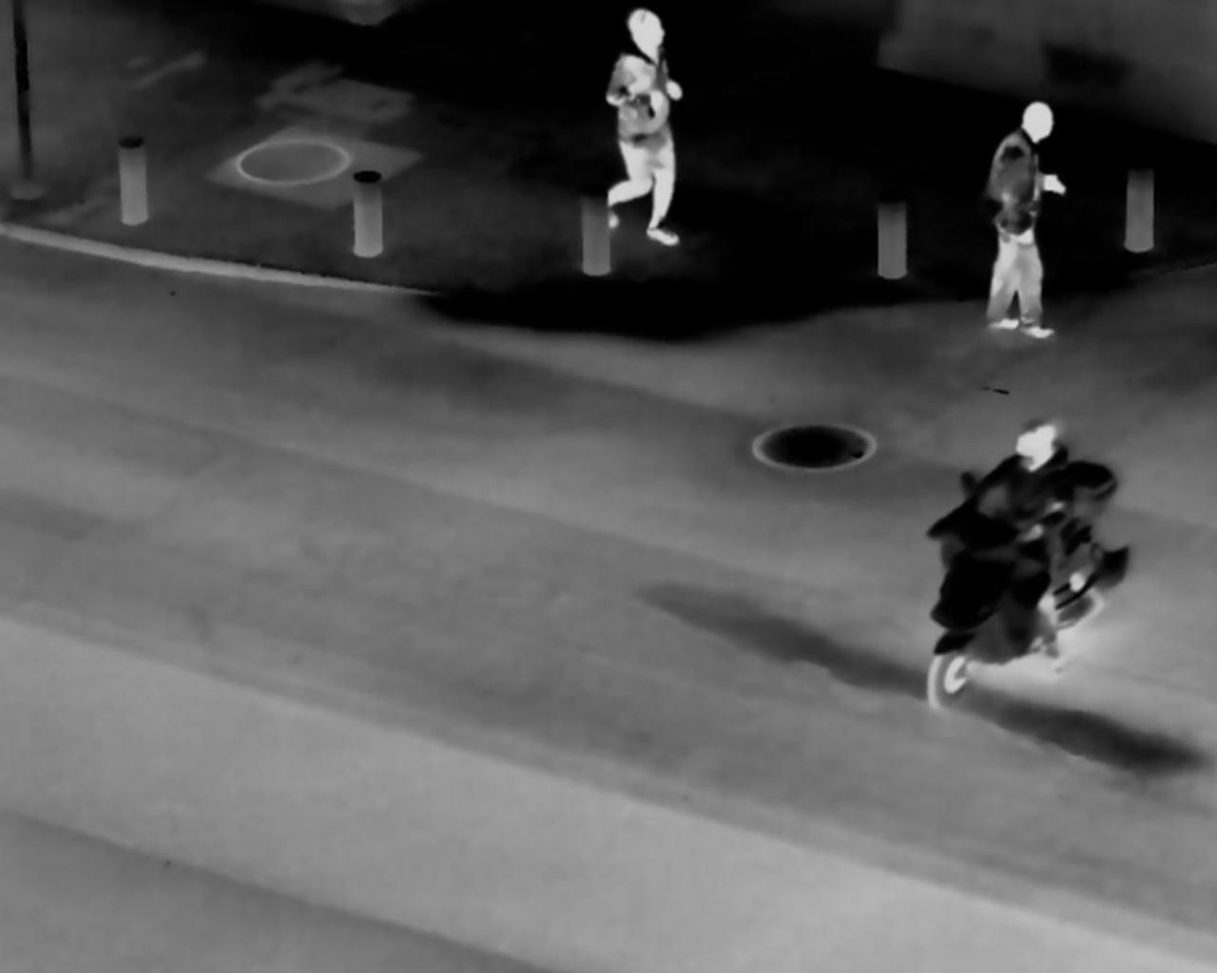person: (965, 396, 1089, 672), (978, 85, 1068, 346), (605, 12, 696, 254)
